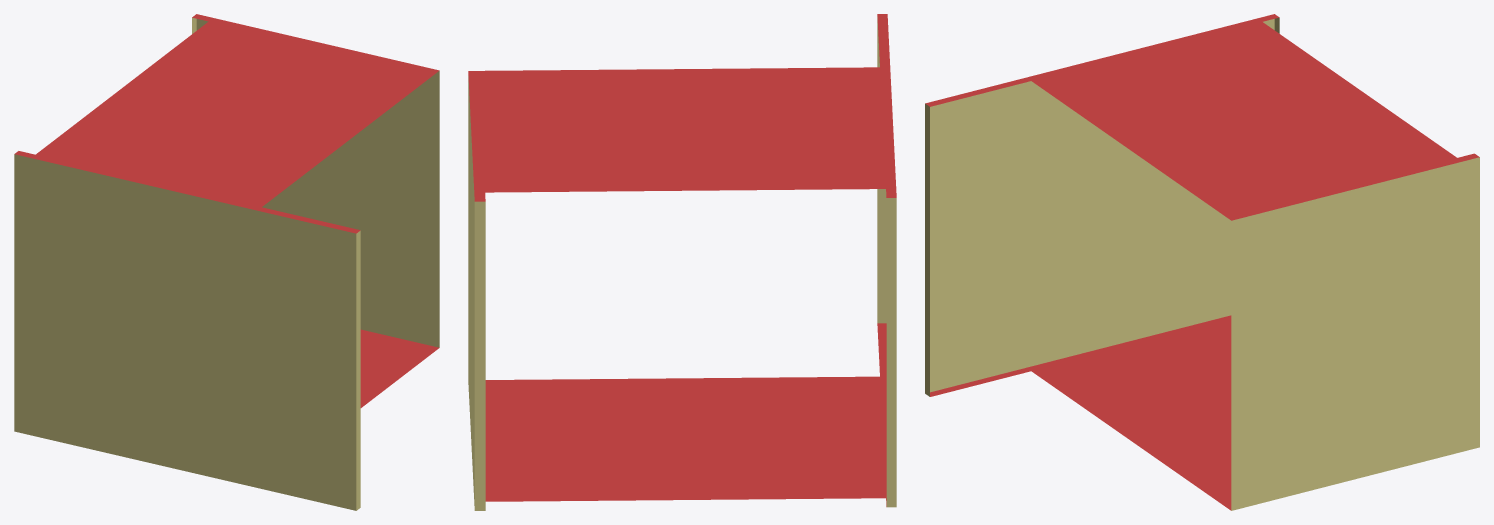
The picture shows the model from 3 angles, left to right: view 1: azimuth 30°, elevation 25°; view 2: azimuth 150°, elevation 25°; view 3: azimuth 270°, elevation 25°; orthographic projection. The views are drawn at different scales.
Size of the model in its own units: 7.64 by 8.66 by 5.
